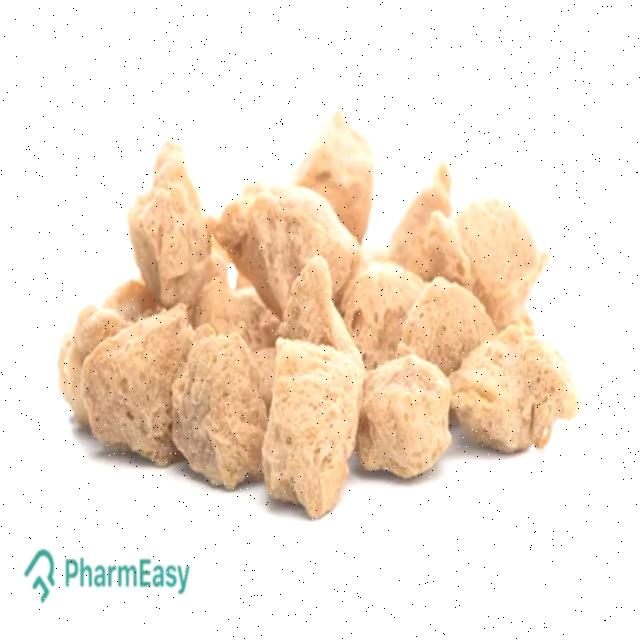Soy Chunks: (109, 133, 553, 489)
